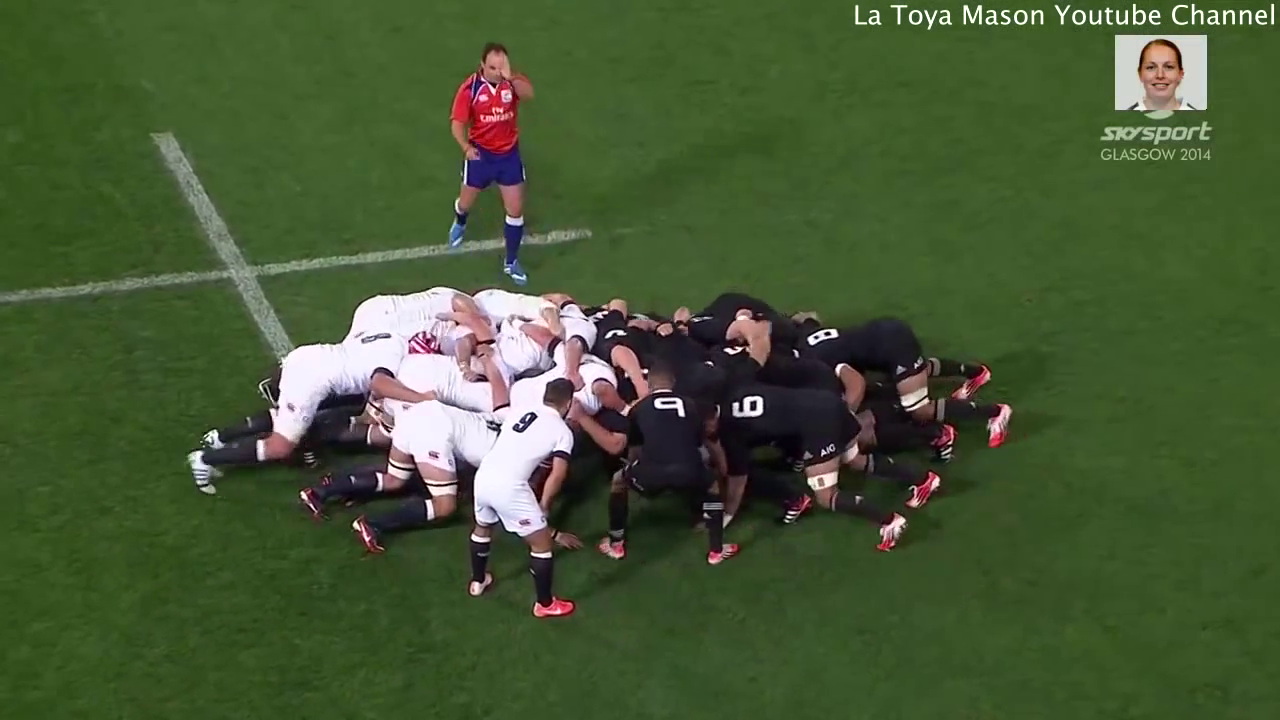10_metre: (1, 121, 601, 415)
player: (714, 376, 958, 560), (182, 319, 439, 486), (315, 384, 506, 566), (457, 366, 586, 623), (601, 362, 741, 581), (791, 308, 1013, 442), (448, 32, 545, 287)
scrum: (162, 261, 1028, 578)
